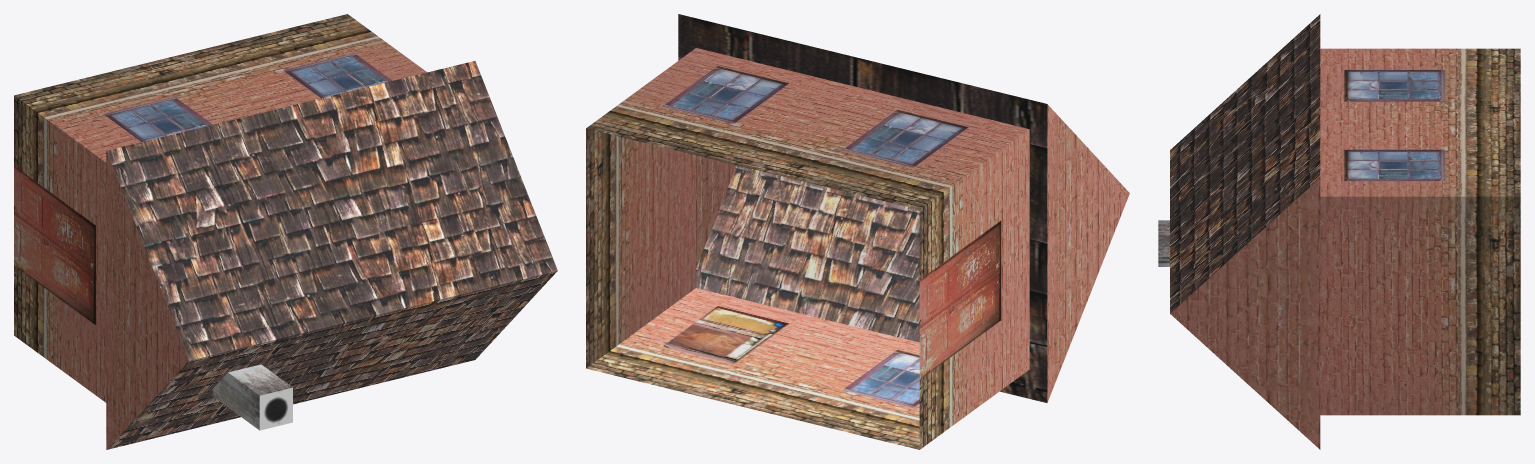
Rendered from house01.dae.
The picture shows the model from 3 angles, left to right: view 1: azimuth 30°, elevation 25°; view 2: azimuth 150°, elevation 25°; view 3: azimuth 270°, elevation 25°; orthographic projection. The views are drawn at different scales.
Visible parts, largest first — view 1: freehouse; view 2: freehouse; view 3: freehouse.
Boxes of the visible parts, left/top/right/bottom form: freehouse: left=14, top=14, right=557, bottom=449; freehouse: left=586, top=14, right=1129, bottom=449; freehouse: left=1158, top=14, right=1520, bottom=449.
Bounding box in the file's own units: 197 × 152 × 184.
1 material, 1 textured.
